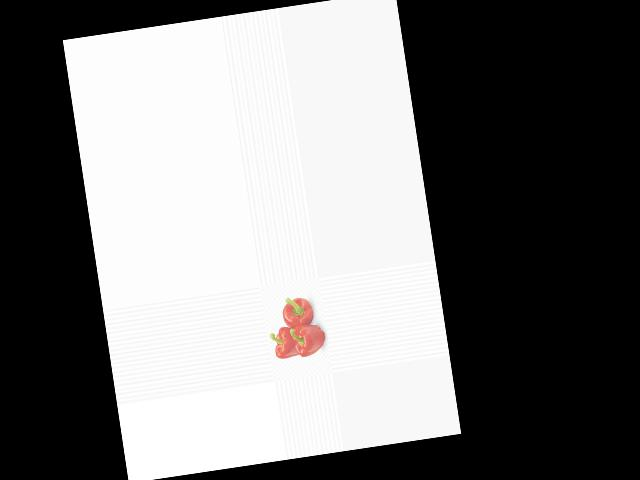bell_pepper: (276, 292, 318, 333)
